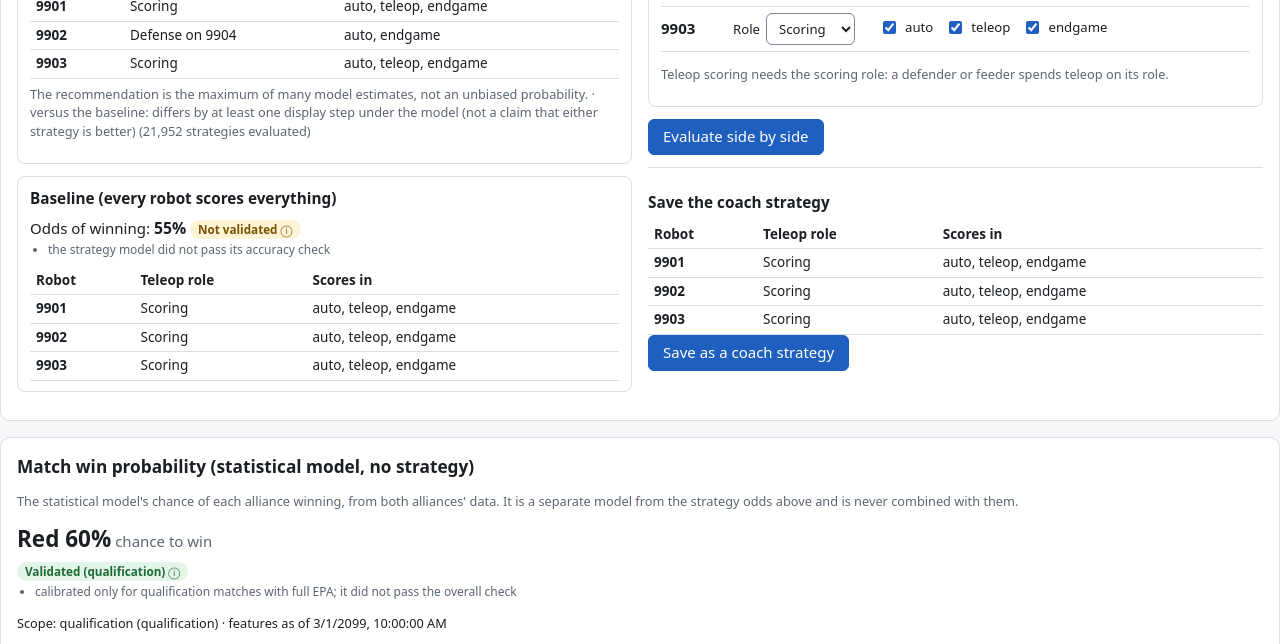
Test: MatchPage (P8-M4) › keeps a save in flight when the coach edits the strategy (regression: a remount lost it and re-enabled Save)
(page scrolled)
Click the button "Save as a coach strategy". click: x=749, y=353
box: [648,335,849,371]
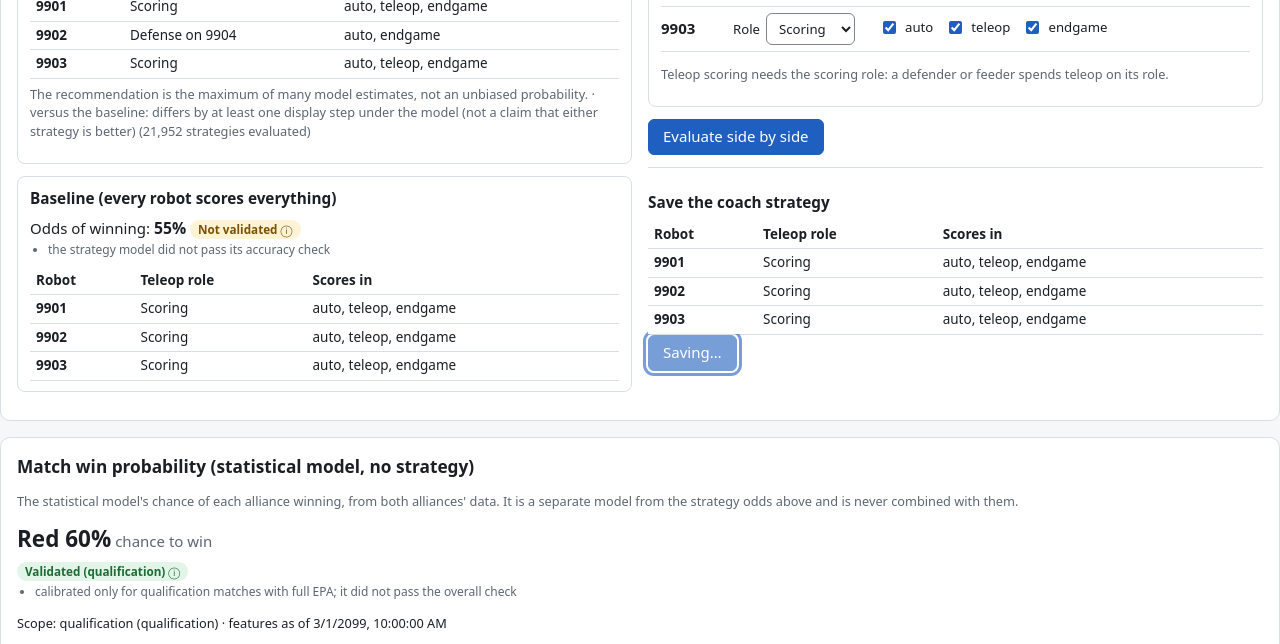
Select "Feeding" in the 2nd dropdown labelled "Role". click: x=810, y=29
box: [766,13,855,45]
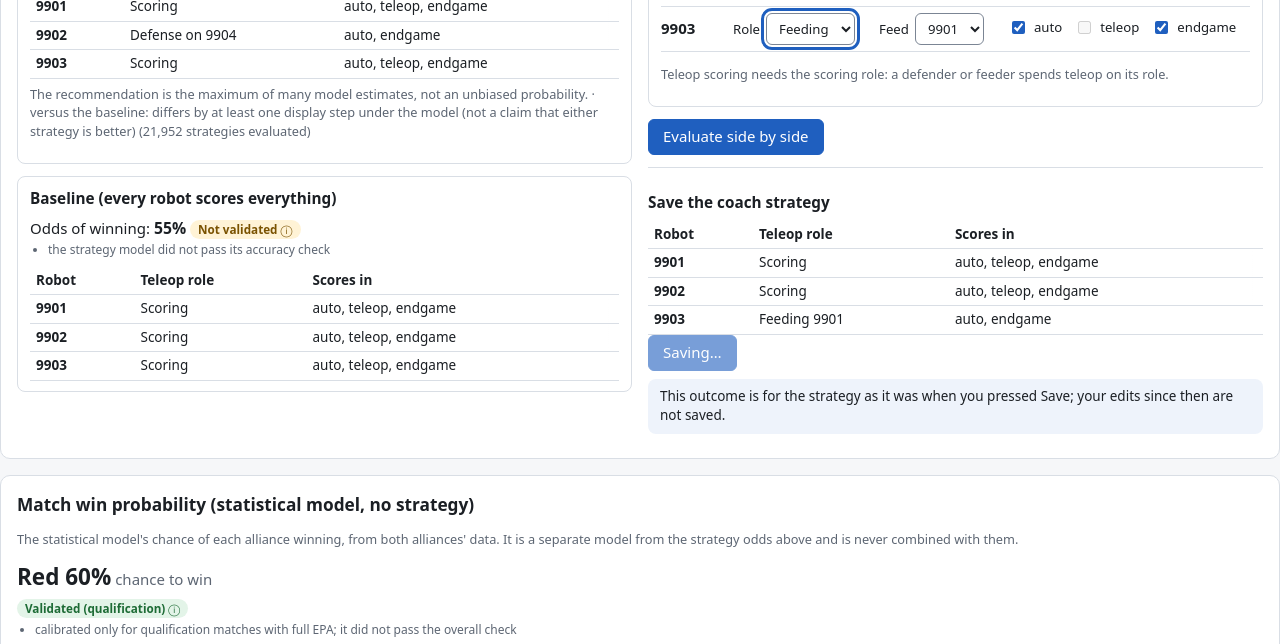
Click the button "Saving…". click: x=692, y=353
box: [648,335,736,371]
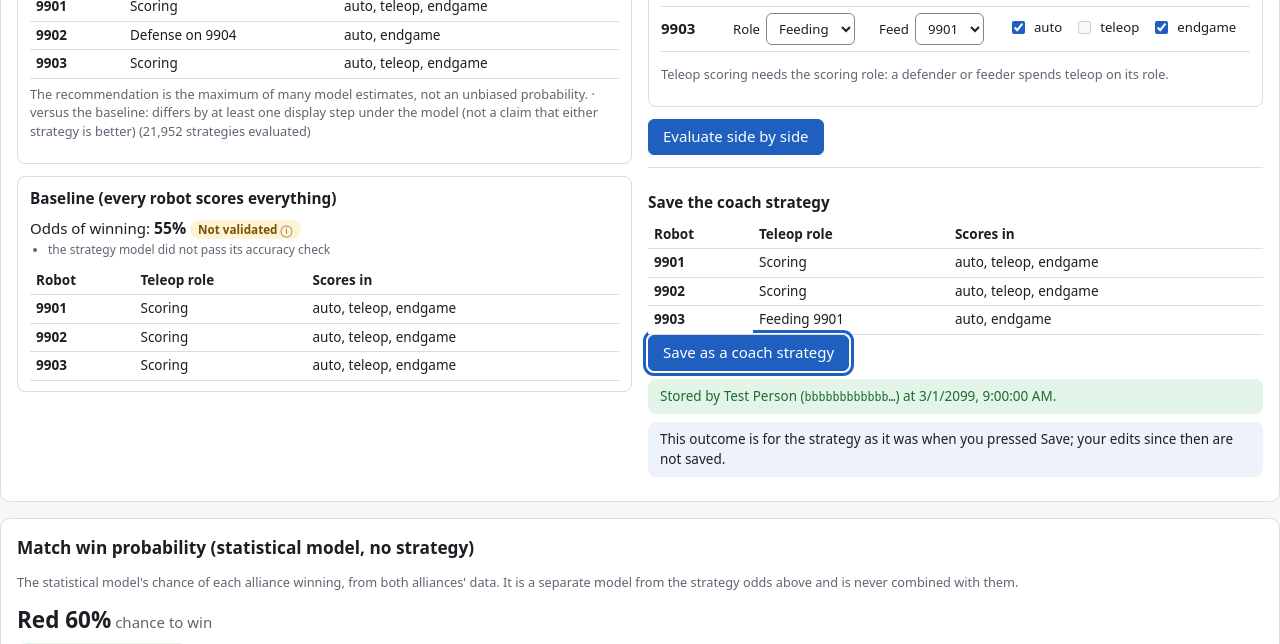
Check: the text "Stored by Test Person" is shown, box [648,379,1263,414]
